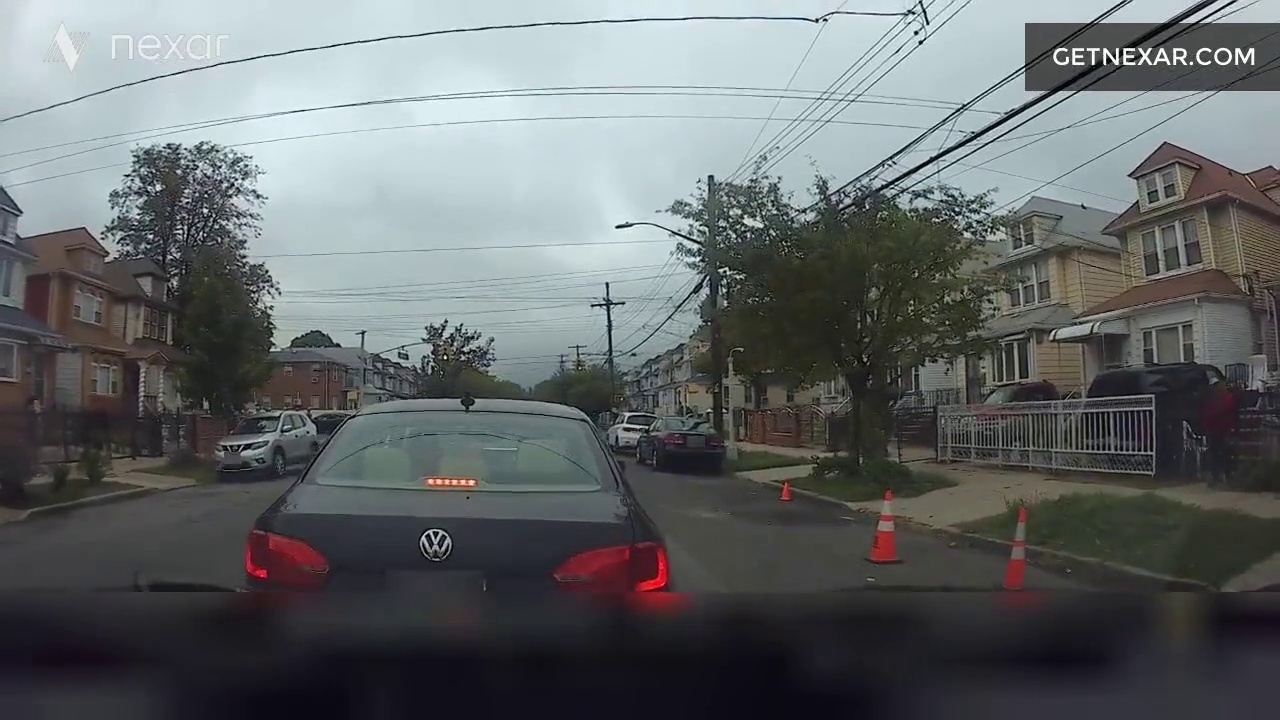car: (259, 382, 613, 649), (188, 347, 321, 491), (1089, 342, 1204, 491), (946, 355, 1057, 467), (616, 384, 726, 495)
person: (1208, 347, 1257, 477)
